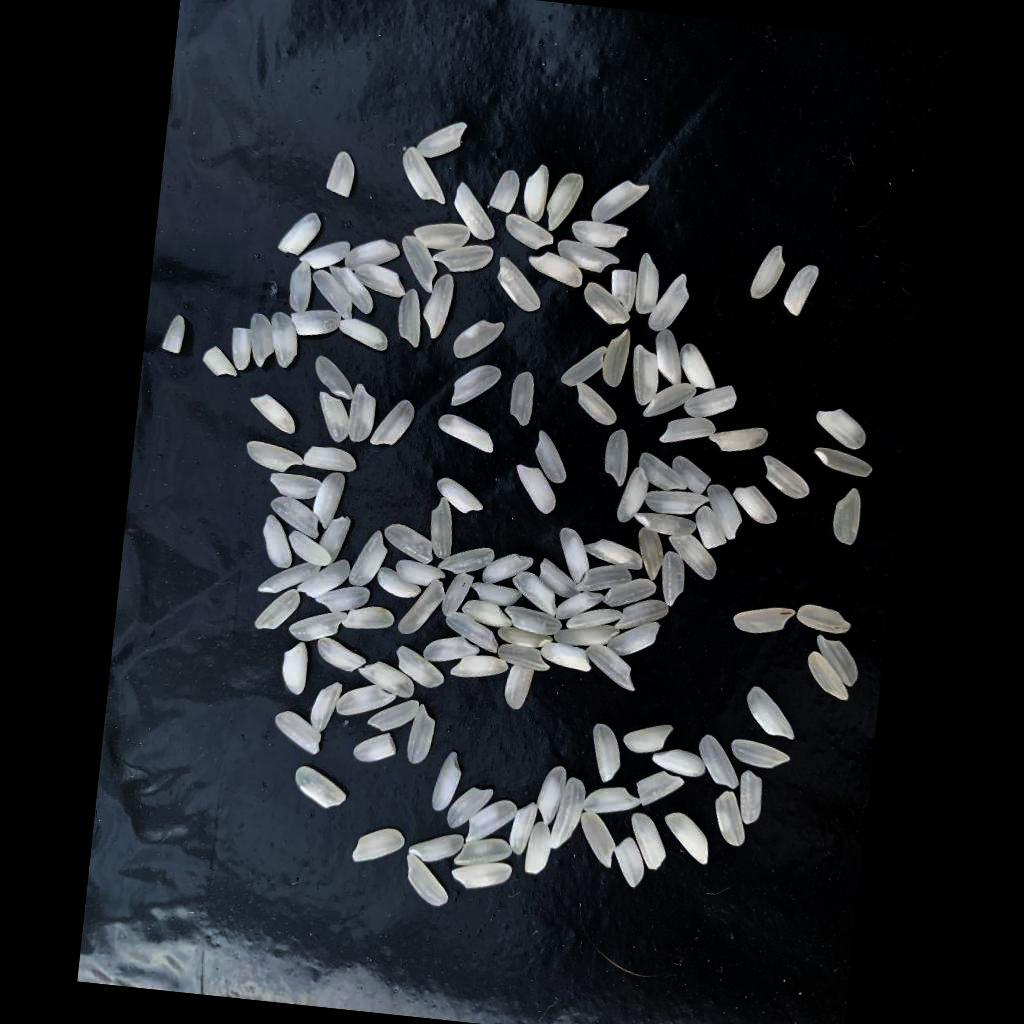rice: (399, 147, 451, 207), (399, 577, 449, 639), (744, 688, 801, 741), (451, 183, 500, 243), (550, 777, 588, 854), (495, 258, 546, 315), (648, 272, 693, 336), (662, 812, 714, 867), (592, 179, 650, 228), (467, 797, 520, 850), (584, 645, 641, 693), (398, 236, 443, 296), (259, 557, 323, 599), (451, 362, 504, 412), (696, 735, 744, 790), (443, 612, 503, 656), (326, 266, 378, 316), (404, 855, 453, 908), (665, 536, 720, 583), (293, 767, 350, 812), (815, 408, 873, 452), (814, 636, 863, 688), (545, 173, 586, 235), (628, 813, 671, 872), (297, 555, 352, 601), (350, 529, 392, 589), (760, 455, 814, 501), (582, 283, 636, 329), (556, 240, 623, 277), (437, 415, 498, 455), (453, 317, 506, 363), (577, 812, 619, 870), (269, 496, 324, 540), (308, 271, 356, 321), (358, 660, 418, 700), (513, 465, 560, 516), (371, 398, 417, 450), (395, 646, 449, 690), (338, 682, 397, 722), (643, 381, 699, 423), (423, 272, 457, 341), (273, 711, 324, 757), (607, 618, 662, 660), (806, 653, 854, 701), (527, 251, 586, 290), (290, 608, 349, 647), (512, 571, 562, 617), (705, 486, 746, 542), (247, 393, 300, 436), (431, 242, 496, 277), (733, 603, 798, 638), (383, 523, 437, 565), (711, 790, 750, 848), (447, 786, 495, 833), (278, 211, 324, 260), (418, 119, 470, 162), (636, 770, 688, 813), (312, 471, 348, 533), (346, 237, 403, 276), (353, 827, 407, 868), (432, 750, 466, 815), (562, 343, 609, 390), (452, 859, 515, 894), (684, 383, 739, 423), (455, 834, 514, 871), (629, 345, 663, 409), (590, 723, 625, 785), (256, 586, 302, 633), (676, 344, 721, 392), (573, 382, 621, 427), (752, 244, 789, 302), (314, 582, 372, 619), (617, 596, 672, 635), (617, 466, 652, 527), (437, 544, 496, 580), (783, 264, 820, 321), (557, 528, 594, 585), (534, 431, 573, 485), (731, 484, 781, 526), (638, 453, 690, 493), (583, 538, 646, 571), (245, 442, 306, 476), (435, 478, 488, 517), (660, 415, 719, 450), (482, 551, 536, 589), (583, 784, 643, 818), (575, 562, 633, 597), (316, 393, 355, 445), (368, 696, 420, 735), (730, 740, 793, 772), (504, 214, 557, 252), (833, 487, 866, 548), (409, 831, 466, 866), (708, 425, 770, 457), (537, 766, 569, 828), (504, 606, 566, 638), (653, 328, 686, 388), (313, 357, 357, 402), (428, 496, 458, 562), (604, 577, 659, 613), (316, 639, 369, 676), (424, 634, 483, 667), (644, 490, 711, 519), (554, 622, 621, 651), (538, 559, 585, 600), (814, 449, 876, 480), (407, 704, 438, 766), (614, 838, 650, 891), (262, 516, 297, 570), (414, 221, 473, 253), (269, 313, 302, 370), (353, 265, 408, 299), (349, 386, 380, 446), (300, 239, 353, 274), (319, 514, 352, 570), (338, 318, 392, 352), (604, 428, 634, 489), (566, 604, 623, 636), (623, 721, 675, 756), (571, 222, 631, 252), (397, 291, 427, 351), (451, 654, 511, 684), (652, 748, 708, 780), (524, 821, 556, 877), (635, 526, 667, 582), (603, 328, 632, 389), (509, 800, 540, 857), (636, 253, 664, 316), (670, 457, 714, 497), (693, 507, 732, 552), (310, 681, 343, 734), (632, 513, 699, 539), (522, 164, 551, 224), (248, 314, 279, 370), (797, 604, 853, 635), (290, 308, 342, 341), (556, 590, 605, 625), (659, 551, 689, 608), (352, 730, 398, 767), (288, 532, 335, 568), (508, 372, 537, 430), (443, 572, 477, 621), (281, 641, 311, 696), (462, 600, 515, 631), (540, 643, 593, 674), (736, 771, 765, 826), (270, 473, 324, 502), (395, 559, 447, 589), (377, 567, 424, 600), (304, 446, 359, 474), (497, 645, 552, 672), (342, 607, 396, 634), (504, 665, 535, 712), (490, 170, 522, 215), (327, 152, 357, 200), (288, 261, 314, 315), (607, 270, 638, 315), (498, 628, 556, 652), (470, 582, 523, 608), (203, 346, 242, 379), (231, 327, 254, 373), (164, 314, 188, 356)
